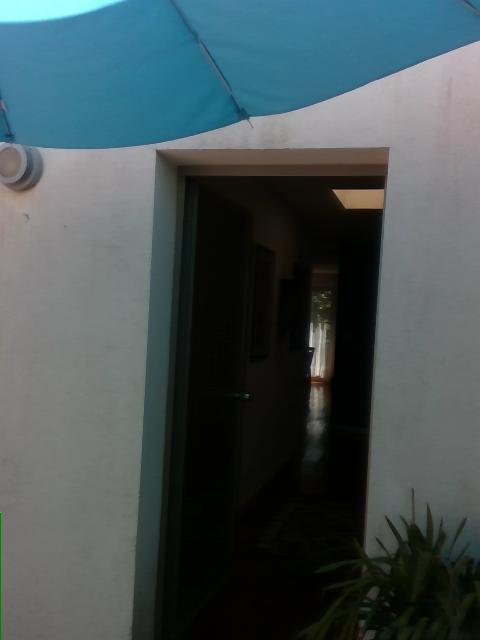open_door: (133, 147, 390, 639)
